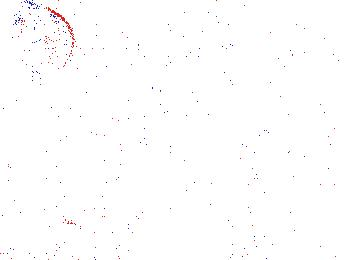moon jellyfish: (50, 49, 159, 159), (150, 31, 245, 119), (115, 1, 227, 60), (15, 7, 74, 75), (287, 7, 346, 66)
